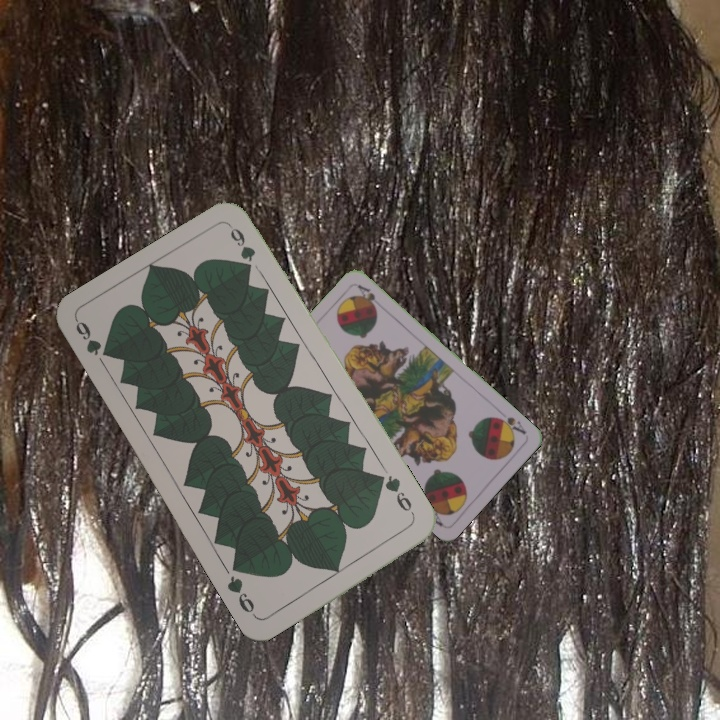G9: (377, 471, 418, 521), (71, 317, 113, 361)
SA: (491, 407, 529, 437)
